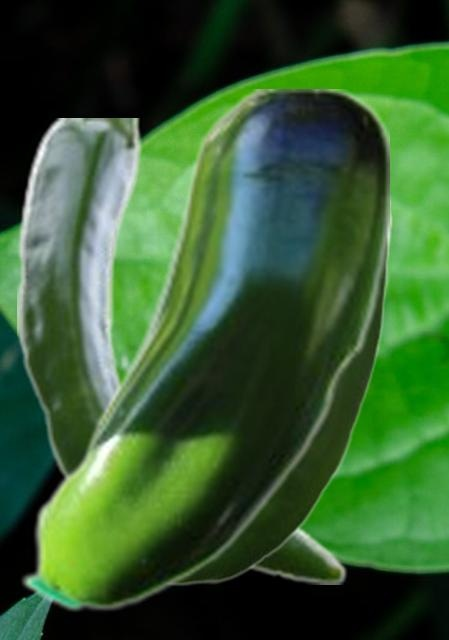green_chili: (18, 89, 388, 613), (17, 118, 347, 583), (175, 181, 392, 586)
